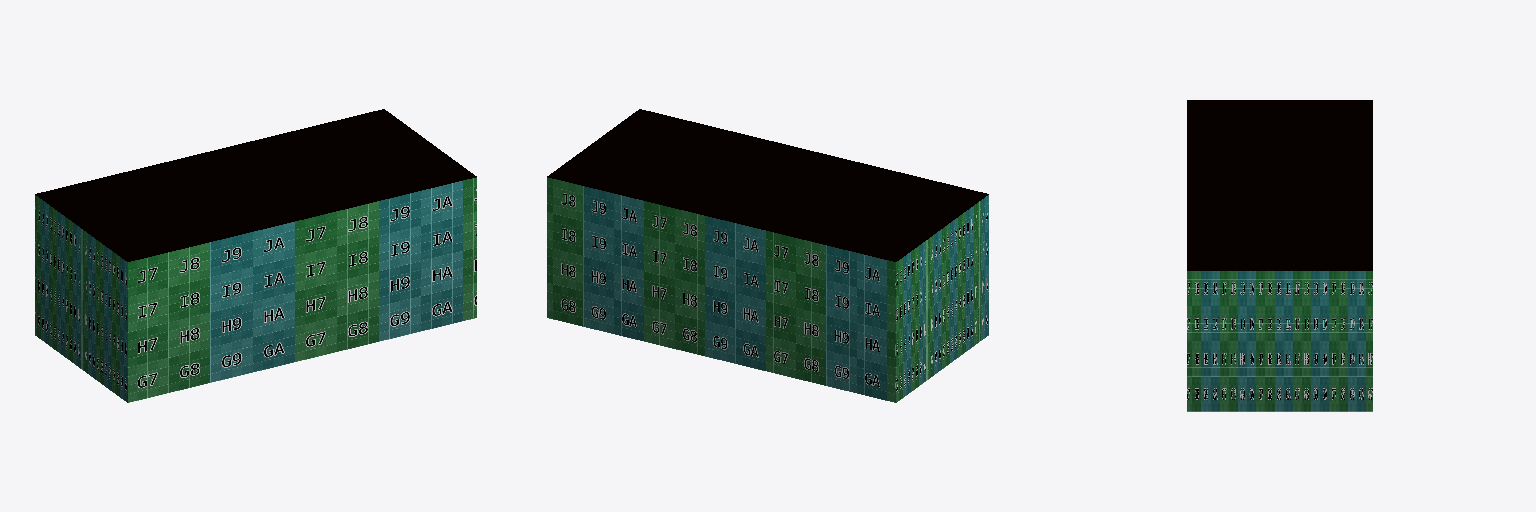
The picture shows the model from 3 angles: view 1: azimuth 30°, elevation 25°; view 2: azimuth 150°, elevation 25°; view 3: azimuth 270°, elevation 25°; orthographic projection.
Parts seen in each view (by area): view 1: Cube; view 2: Cube; view 3: Cube.
Part boxes in pixels (bbox=[...]): Cube: bbox=[35, 109, 476, 402]; Cube: bbox=[547, 109, 988, 402]; Cube: bbox=[1187, 100, 1372, 411].
Size of the model in its own units: 6.5 by 2.5 by 3.
3 materials, 2 textured.